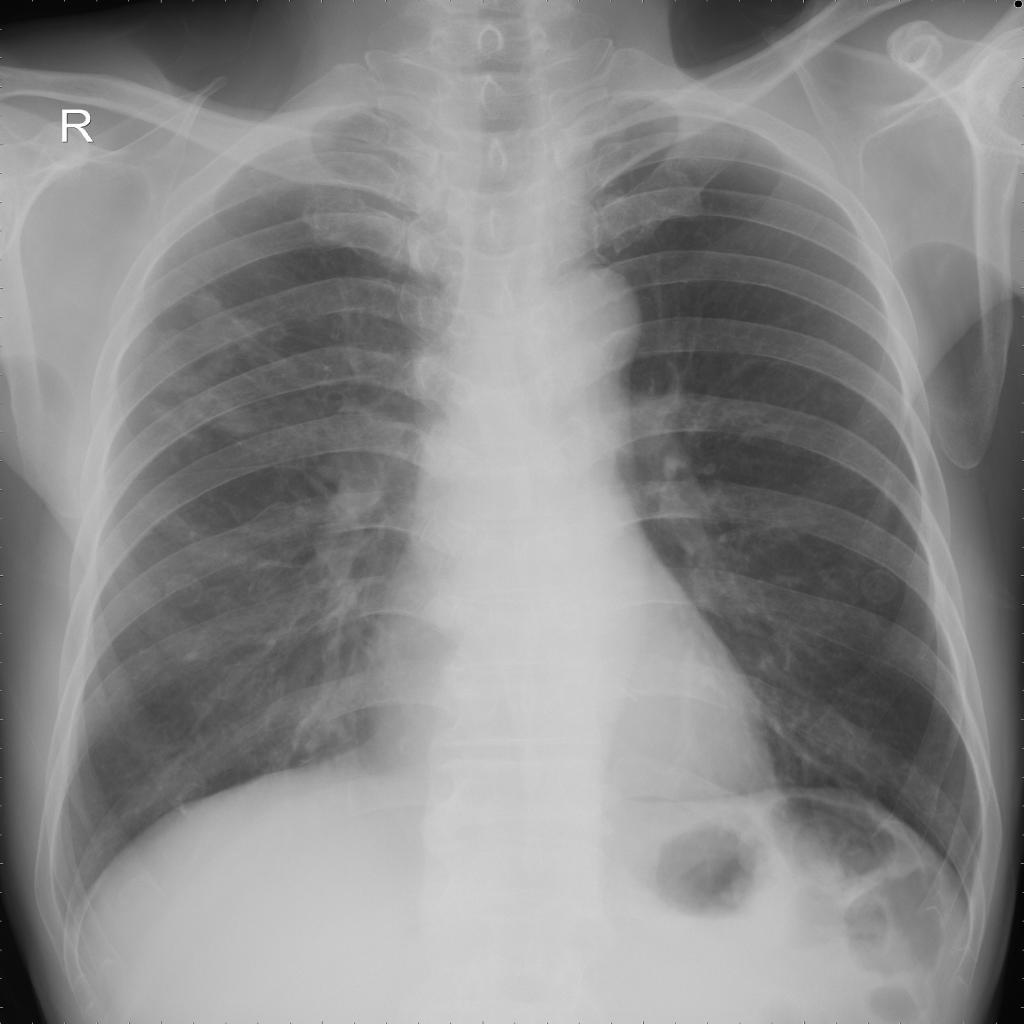Nodule: (862, 568, 899, 606), (167, 572, 205, 608)
